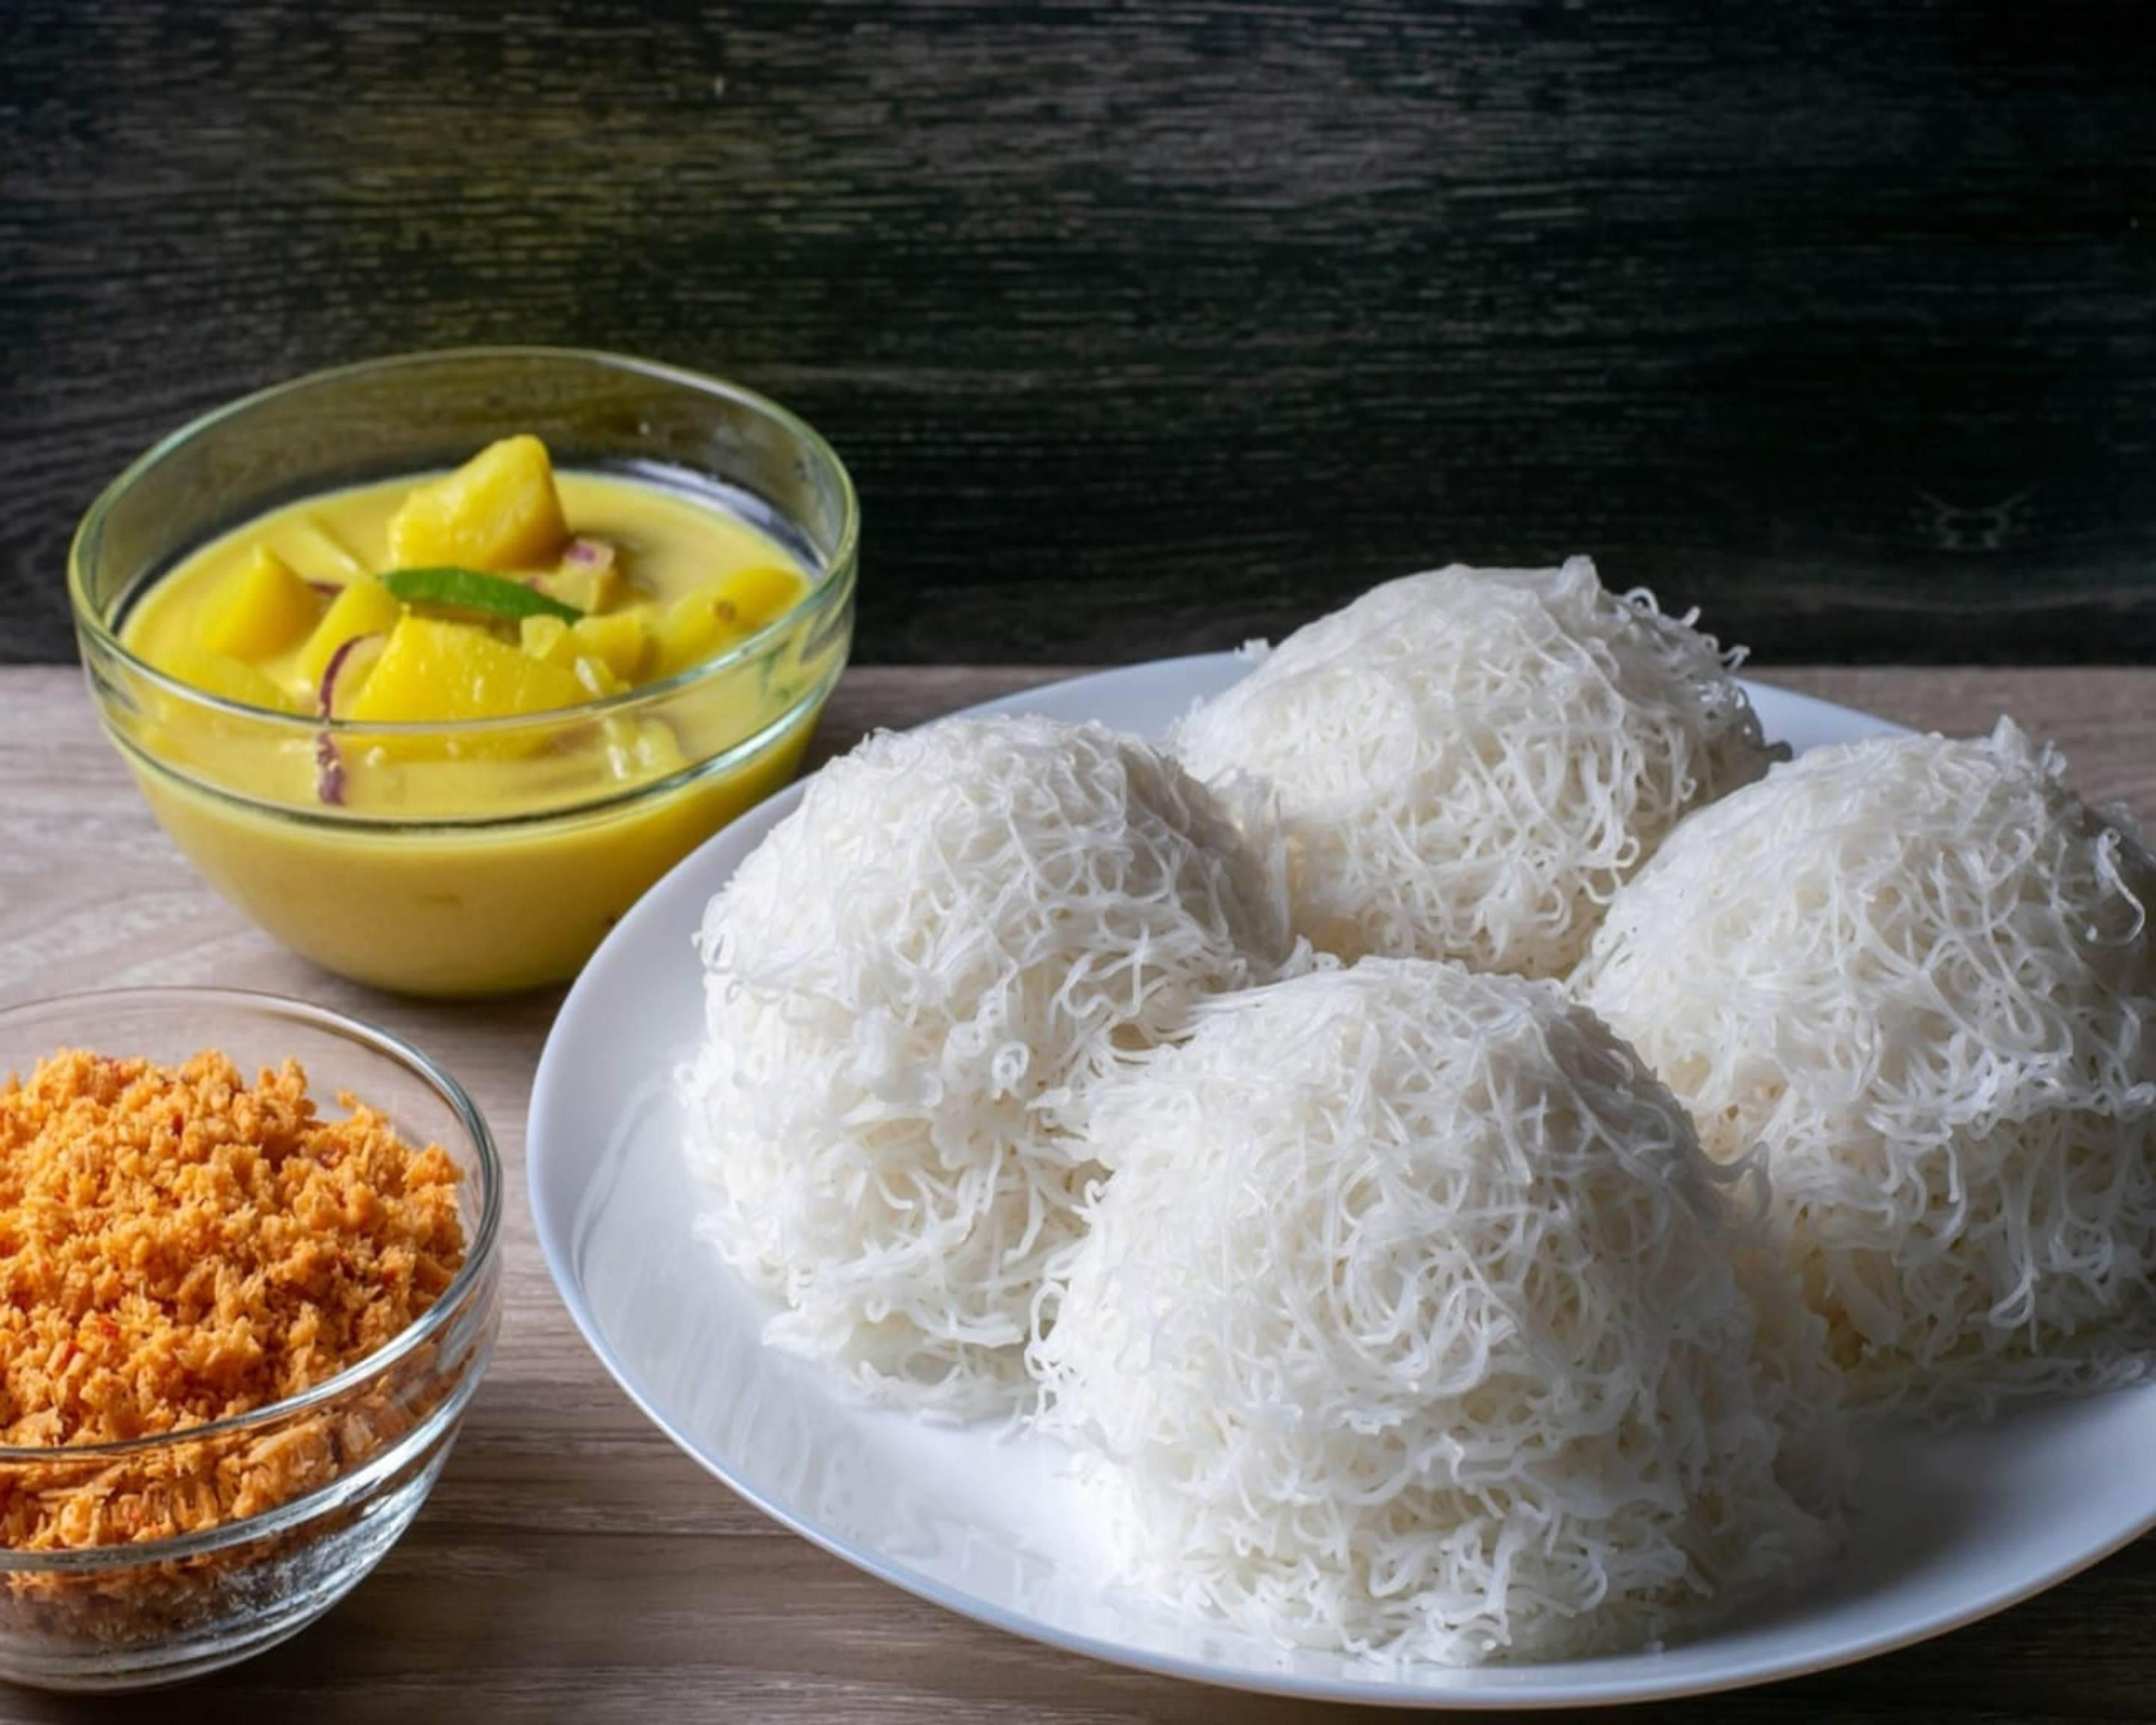Pol Sambol: (9, 840, 568, 1697)
String Hoppers: (660, 424, 2152, 1725)
